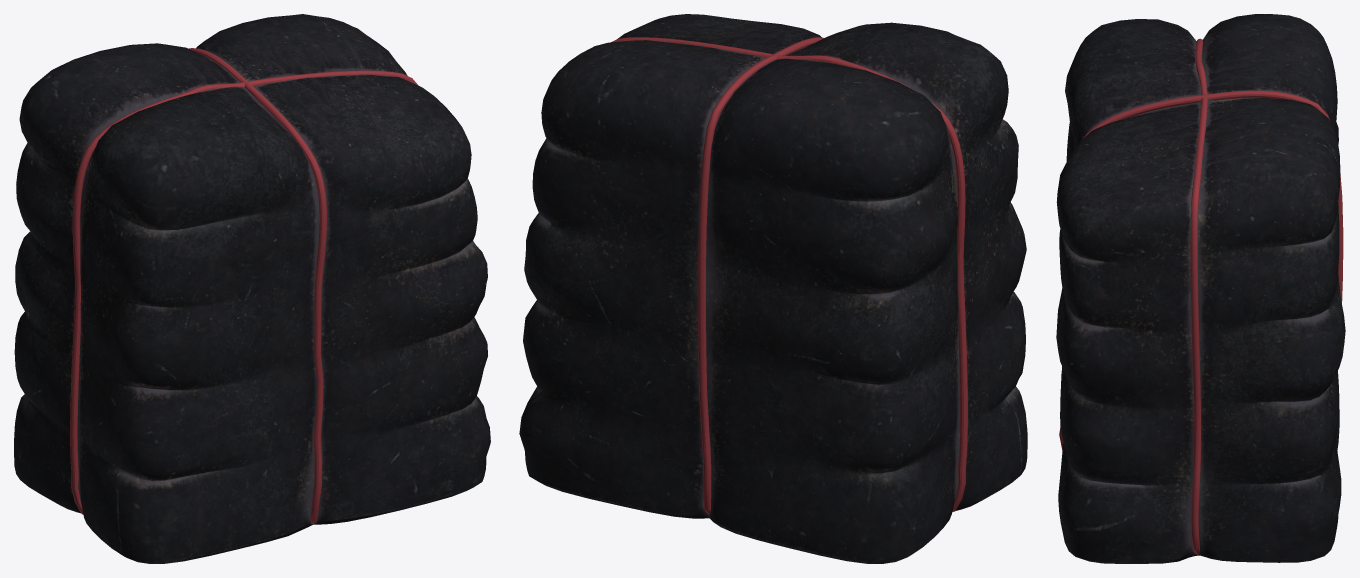
The model's file is pallet_blackwrap.glb.
3 renders of one model, left to right at view 1: azimuth 30°, elevation 25°; view 2: azimuth 150°, elevation 25°; view 3: azimuth 270°, elevation 25°, orthographic. The views are drawn at different scales.
Visible parts, largest first — view 1: LOAD_Full_blackwrap.001; view 2: LOAD_Full_blackwrap.001; view 3: LOAD_Full_blackwrap.001.
Part boxes in pixels (x1=…): LOAD_Full_blackwrap.001: x1=14, y1=14, x2=490, y2=563; LOAD_Full_blackwrap.001: x1=519, y1=14, x2=1027, y2=563; LOAD_Full_blackwrap.001: x1=1056, y1=14, x2=1345, y2=563.
Bounding box in the file's own units: 1.16 × 1.22 × 0.7863.
1 material, 1 textured.
